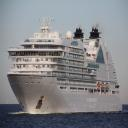cruises: (6, 17, 124, 117)
